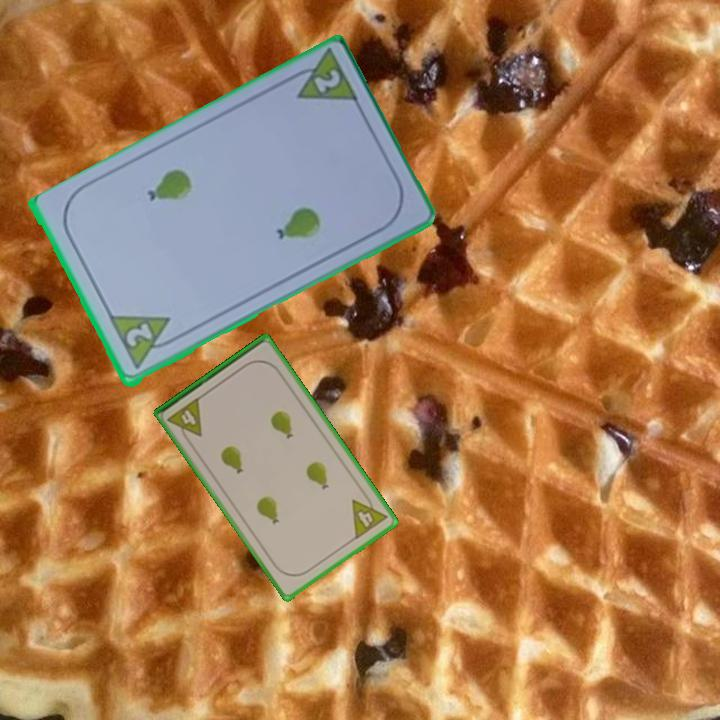2p: (121, 320, 156, 351), (309, 66, 344, 97)
4p: (348, 488, 390, 542), (164, 394, 205, 446)
